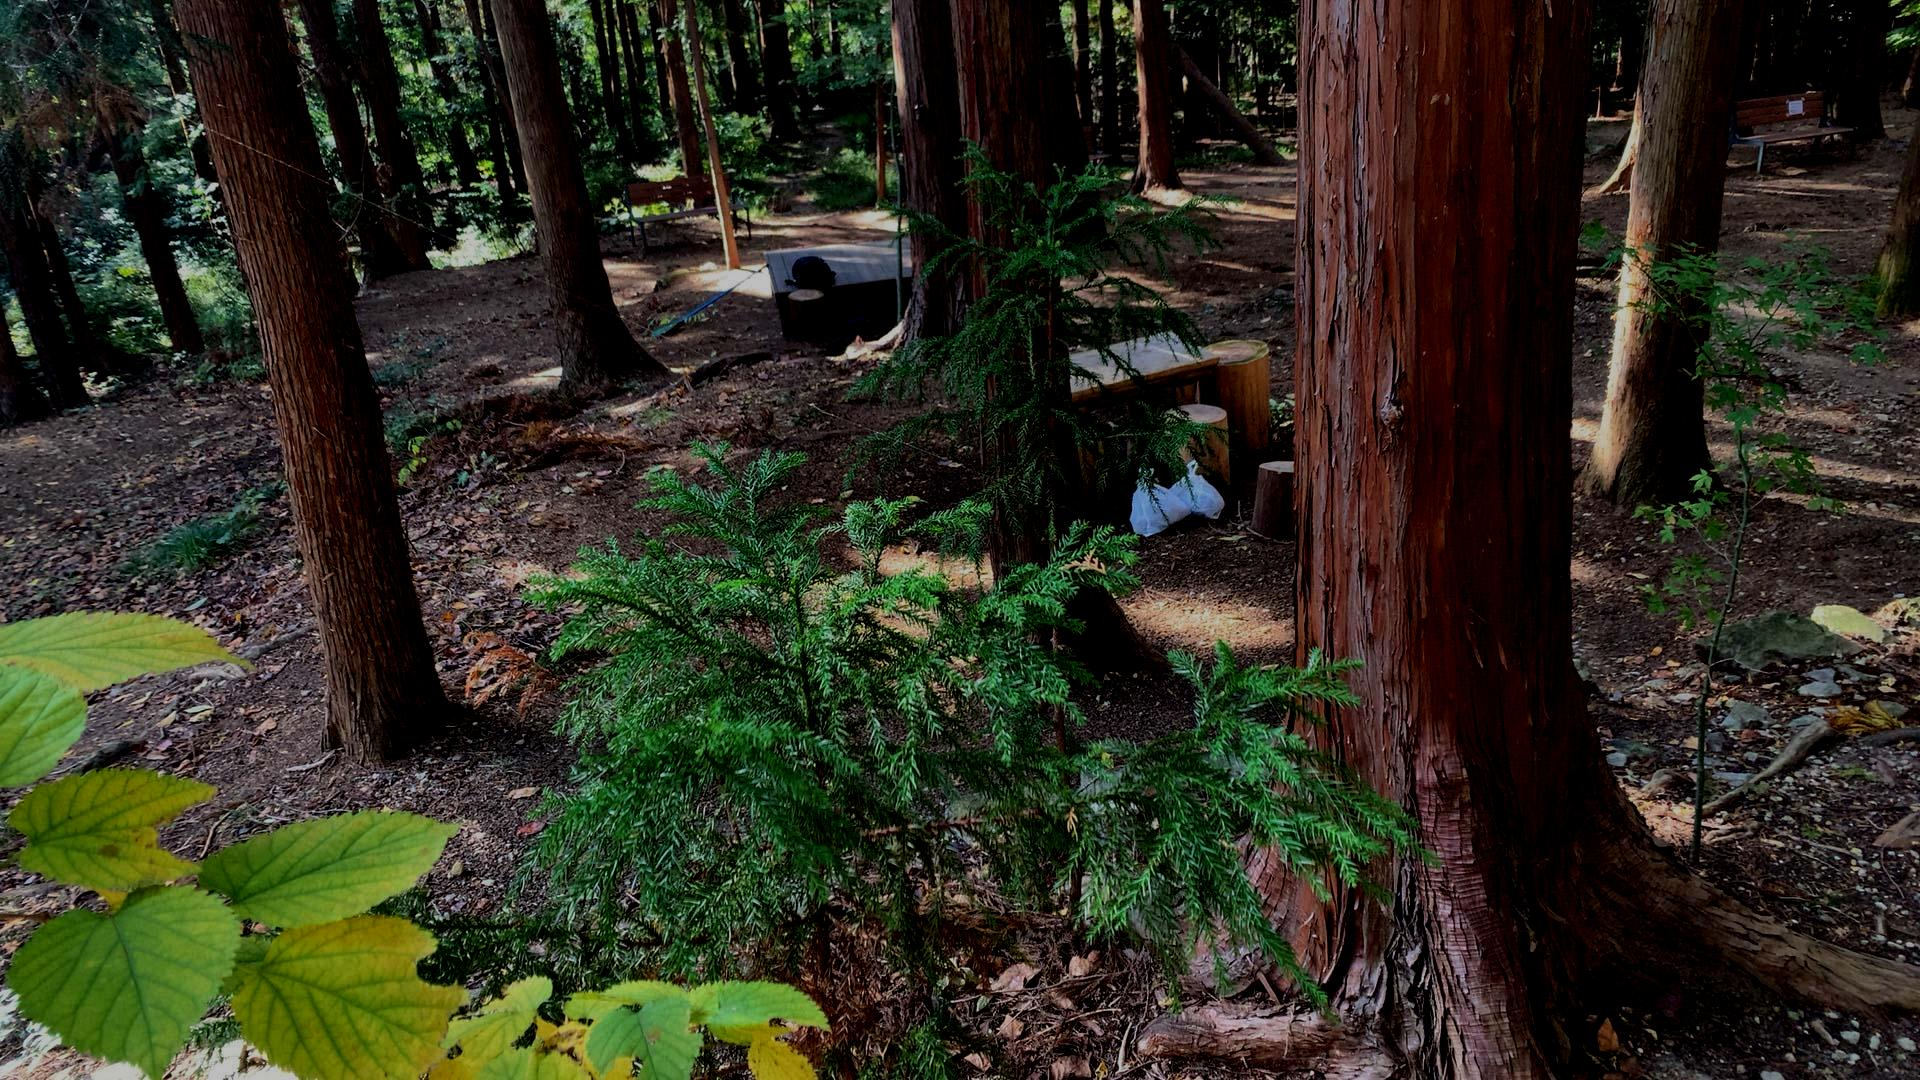white_bag: (1126, 459, 1192, 531), (1168, 459, 1226, 521)
